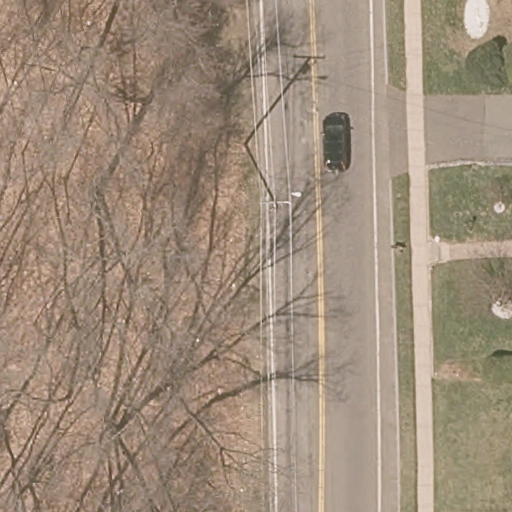DT: (242, 143, 302, 207)
